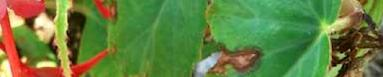Tomato leaf bacterial spot: (168, 0, 352, 77)
